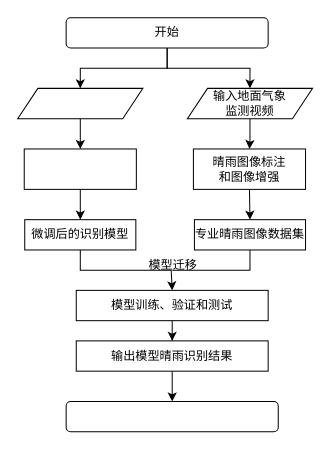
Image size: 330x449. Some labels were removed from this diagram. The shapes that lost their labels are listed below. From the top down, each one's centre as x and y in pixels, then its label:
At (80,103): "输入大型公开 图片数据集".
At (79,168): "在Swin-Transformer预训练模型上微调".
At (171,416): "结束".
